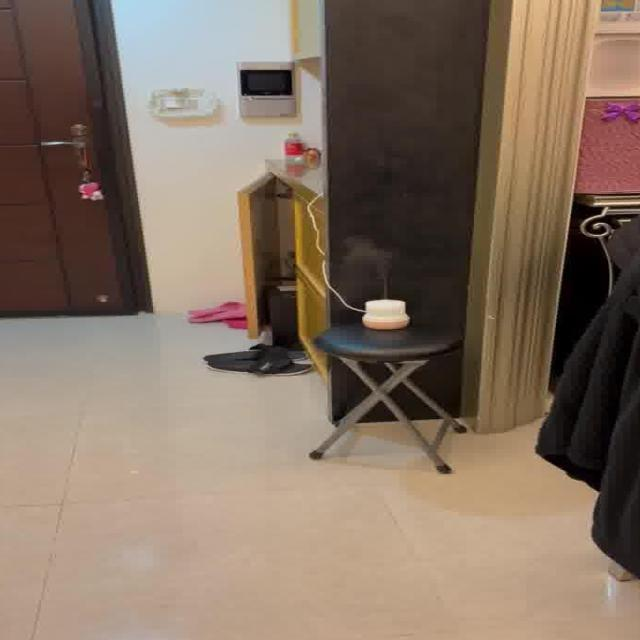fire: (338, 236, 400, 291)
